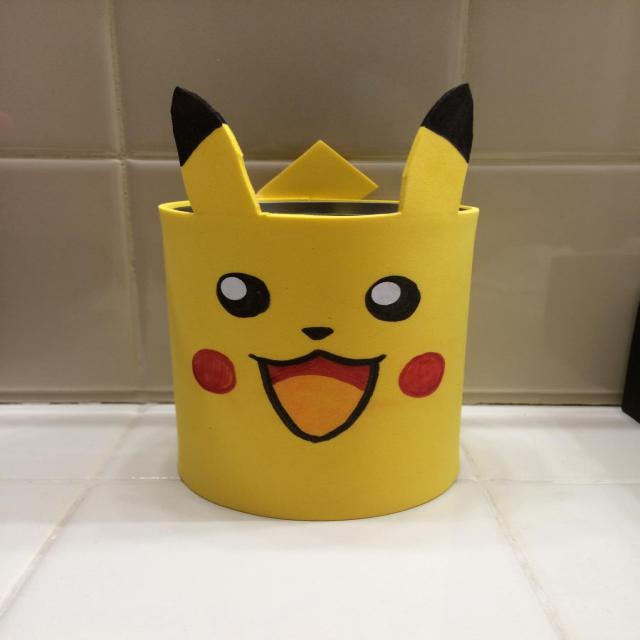pikachu: (173, 83, 476, 463)
